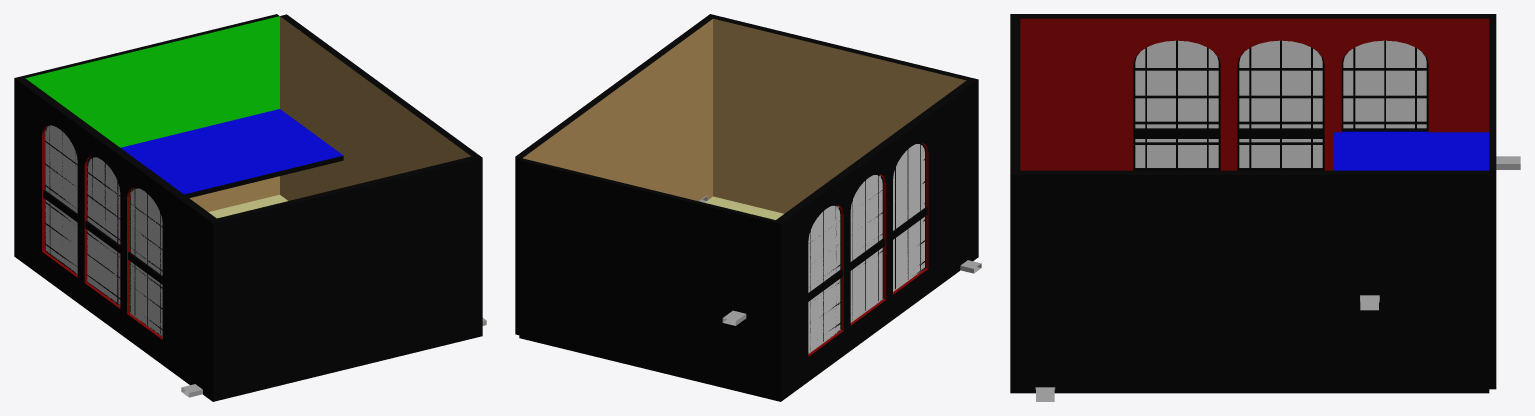
Rendered from room_layout_walls_v4.fbx.
3 renders of one model, left to right at view 1: azimuth 30°, elevation 25°; view 2: azimuth 150°, elevation 25°; view 3: azimuth 270°, elevation 25°, orthographic. The views are drawn at different scales.
Visible parts, largest first — view 1: Wall_S, Window_Wall, Wall_N, Wall_E_VentTest, Window, Floor_Loft, Window_Bars, Floor_base; view 2: Wall_N, Wall_S, Window_Wall, Wall_E_VentTest, Window, Window_Bars, Floor_base; view 3: Wall_E_VentTest, Window_Wall, Window, Window_Bars, Floor_Loft, Wall_S, Wall_N.
Part boxes in pixels (box(x1,y1,x2,y2)): Wall_S: box(209, 154, 482, 401); Window_Wall: box(14, 76, 216, 398); Wall_N: box(22, 14, 279, 211); Wall_E_VentTest: box(280, 14, 477, 200); Window: box(45, 125, 162, 336); Floor_Loft: box(120, 109, 343, 198); Window_Bars: box(43, 125, 162, 336); Floor_base: box(208, 194, 287, 218); Wall_N: box(519, 158, 775, 399); Wall_S: box(706, 14, 978, 259); Window_Wall: box(773, 80, 974, 401); Wall_E_VentTest: box(515, 17, 712, 335); Window: box(808, 144, 924, 353); Window_Bars: box(808, 143, 927, 350); Floor_base: box(705, 196, 783, 219); Wall_E_VentTest: box(1020, 170, 1489, 393); Window_Wall: box(1020, 14, 1496, 170); Window: box(1135, 40, 1426, 167); Window_Bars: box(1133, 40, 1428, 170); Floor_Loft: box(1333, 131, 1489, 170); Wall_S: box(1010, 14, 1020, 393); Wall_N: box(1489, 18, 1496, 389).
Size of the model in its own units: 1119 by 645 by 1358.
